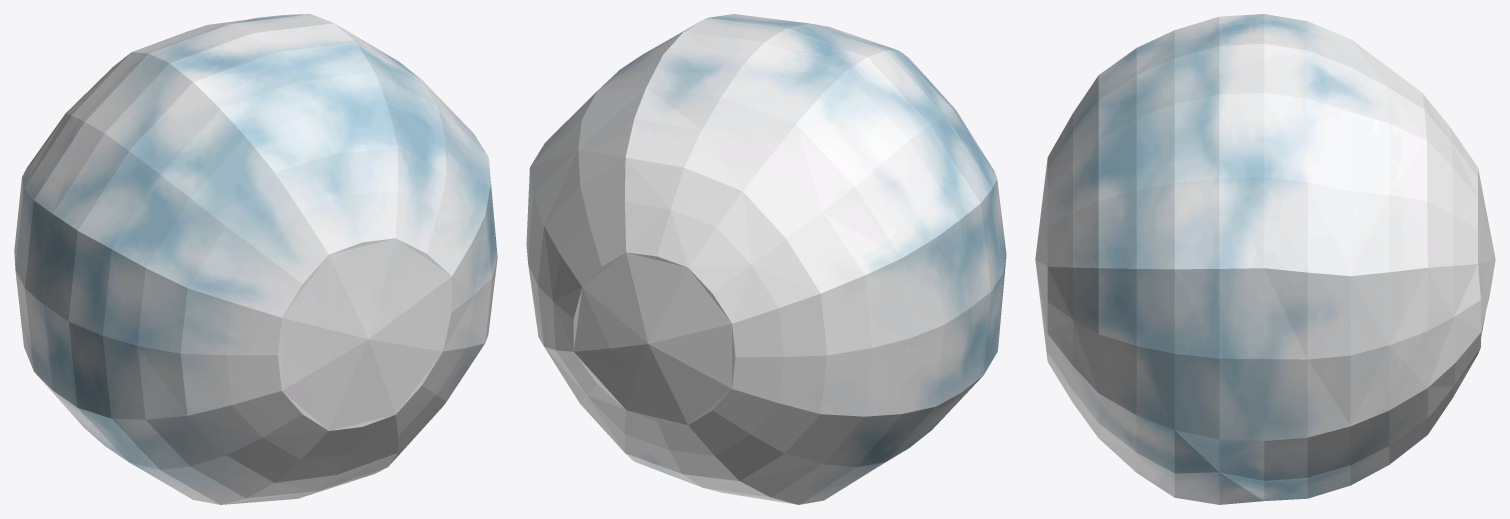
File: Snowball.obj
3 views of the same model, side by side, from view 1: azimuth 30°, elevation 25°; view 2: azimuth 150°, elevation 25°; view 3: azimuth 270°, elevation 25° (orthographic). The views are drawn at different scales.
Parts seen in each view (by area): view 1: Inst3D19_RefRep.310; view 2: Inst3D19_RefRep.310; view 3: Inst3D19_RefRep.310.
Boxes of the visible parts, bbox=[...] form: Inst3D19_RefRep.310: bbox=[14, 14, 497, 504]; Inst3D19_RefRep.310: bbox=[526, 14, 1006, 504]; Inst3D19_RefRep.310: bbox=[1035, 14, 1495, 504].
Size of the model in its own units: 3.22 by 3.25 by 3.15.
1 material, 1 textured.
